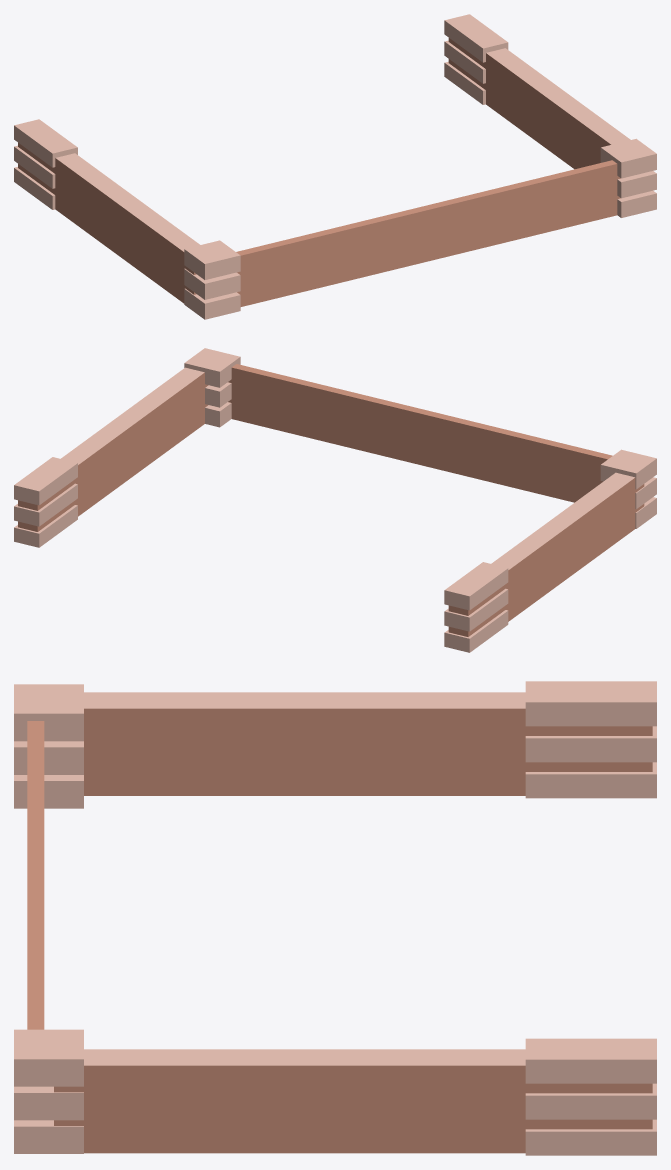
The model's file is Walls.fbx.
3 renders of one model, top to bottom at view 1: azimuth 30°, elevation 25°; view 2: azimuth 150°, elevation 25°; view 3: azimuth 270°, elevation 25°, orthographic. The views are drawn at different scales.
Parts seen in each view (by area): view 1: Side Walls, Back Wall; view 2: Side Walls, Back Wall; view 3: Side Walls, Back Wall.
Boxes of the visible parts, left/top/right/bottom form: Side Walls: left=14, top=14, right=656, bottom=319; Back Wall: left=236, top=160, right=620, bottom=306; Side Walls: left=14, top=348, right=656, bottom=652; Back Wall: left=228, top=364, right=612, bottom=502; Side Walls: left=14, top=681, right=656, bottom=1155; Back Wall: left=27, top=721, right=44, bottom=1029.
Size of the model in its own units: 1606 by 190 by 1154.
